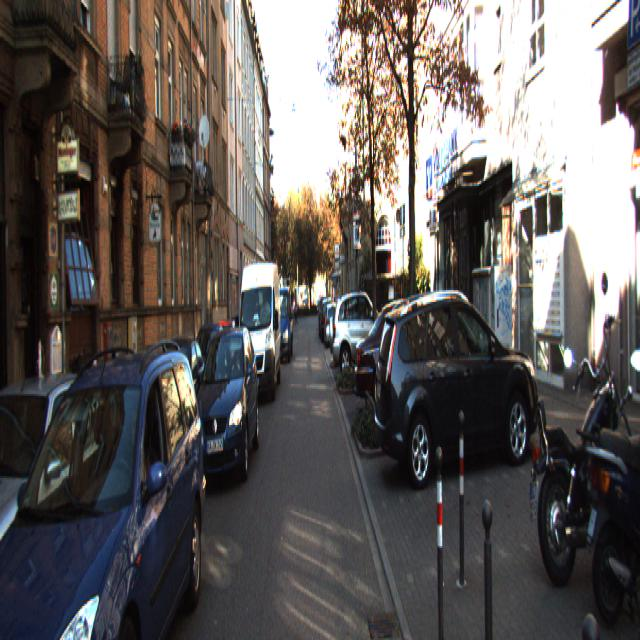Car: (0, 330, 205, 638), (373, 280, 542, 491), (524, 311, 640, 594), (0, 358, 104, 638), (578, 331, 640, 638), (354, 301, 465, 428), (187, 324, 259, 503), (140, 336, 207, 481), (234, 257, 282, 410), (329, 288, 395, 378), (267, 286, 295, 368), (324, 304, 340, 353)
